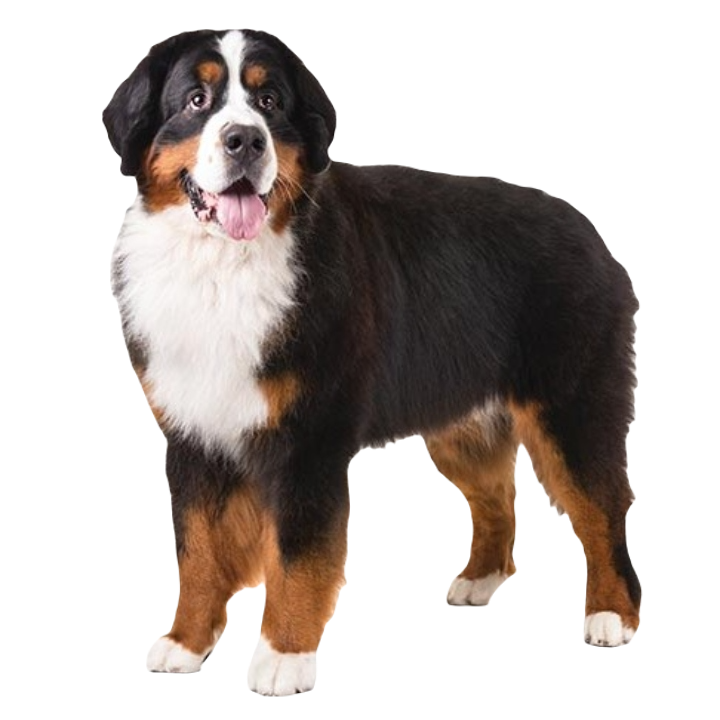Dog: (67, 27, 646, 692)
